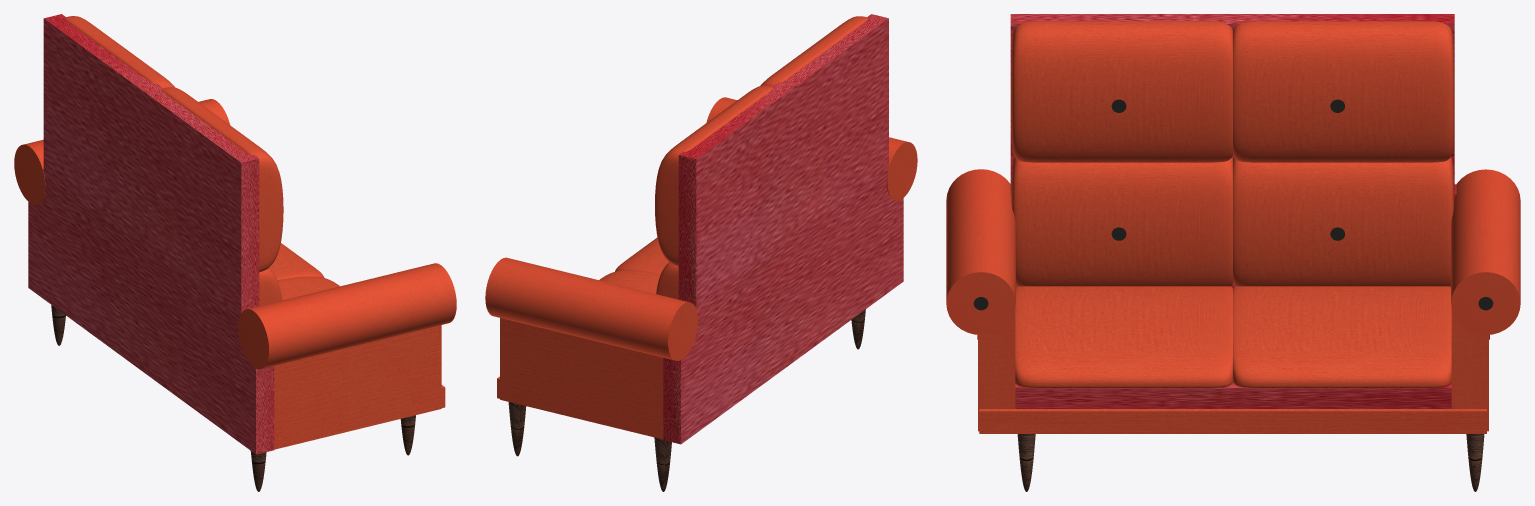
File: sofah2.obj
The picture shows the model from 3 angles, left to right: view 1: azimuth 30°, elevation 25°; view 2: azimuth 150°, elevation 25°; view 3: azimuth 270°, elevation 25°; orthographic projection. The views are drawn at different scales.
Visible parts, largest first — view 1: Cube.005, Cube.004, Cube.002, Cylinder, arriba_3.004, Cylinder.001, arriba_1.001, abajo1, abajo3.001, arriba_3.001; view 2: Cube.005, Cube.004, Cube.003, Cylinder.001, arriba_1.001, Cylinder, arriba_3.004, abajo3.001, abajo1, pata4.001, pata4.002, arriba_1; view 3: arriba_3.004, arriba_1.001, arriba_1, arriba_3.001, abajo1, abajo3.001, base.001, Cylinder, Cylinder.001, base, Cube.005, Cube.003 (+3 smaller).
Part boxes in pixels (bbox=[...]): Cube.005: bbox=[43, 14, 259, 316]; Cube.004: bbox=[28, 169, 274, 454]; Cube.002: bbox=[274, 325, 441, 449]; Cylinder: bbox=[238, 263, 456, 369]; arriba_3.004: bbox=[162, 87, 283, 271]; Cylinder.001: bbox=[14, 99, 229, 204]; arriba_1.001: bbox=[64, 16, 175, 88]; abajo1: bbox=[269, 243, 324, 280]; abajo3.001: bbox=[277, 276, 339, 300]; arriba_3.001: bbox=[259, 268, 282, 305]; Cube.005: bbox=[678, 14, 888, 309]; Cube.004: bbox=[663, 166, 903, 444]; Cube.003: bbox=[500, 318, 663, 439]; Cylinder.001: bbox=[485, 257, 698, 360]; arriba_1.001: bbox=[655, 85, 773, 265]; Cylinder: bbox=[706, 97, 917, 200]; arriba_3.004: bbox=[760, 16, 868, 86]; abajo3.001: bbox=[615, 237, 668, 273]; abajo1: bbox=[599, 270, 660, 293]; pata4.001: bbox=[508, 402, 526, 456]; pata4.002: bbox=[654, 437, 671, 491]; arriba_1: bbox=[656, 262, 678, 299]; arriba_3.004: bbox=[1011, 21, 1232, 162]; arriba_1.001: bbox=[1233, 21, 1454, 162]; arriba_1: bbox=[1233, 157, 1454, 286]; arriba_3.001: bbox=[1011, 157, 1232, 286]; abajo1: bbox=[1233, 286, 1451, 388]; abajo3.001: bbox=[1015, 286, 1232, 388]; base.001: bbox=[979, 409, 1486, 433]; Cylinder: bbox=[946, 169, 1015, 334]; Cylinder.001: bbox=[1451, 169, 1520, 334]; base: bbox=[1015, 383, 1451, 408]; Cube.005: bbox=[1010, 14, 1454, 195]; Cube.003: bbox=[1451, 310, 1488, 431].
Size of the model in its own units: 1.14 by 1.96 by 2.65.
Materials: 4 (4 with a texture image).
